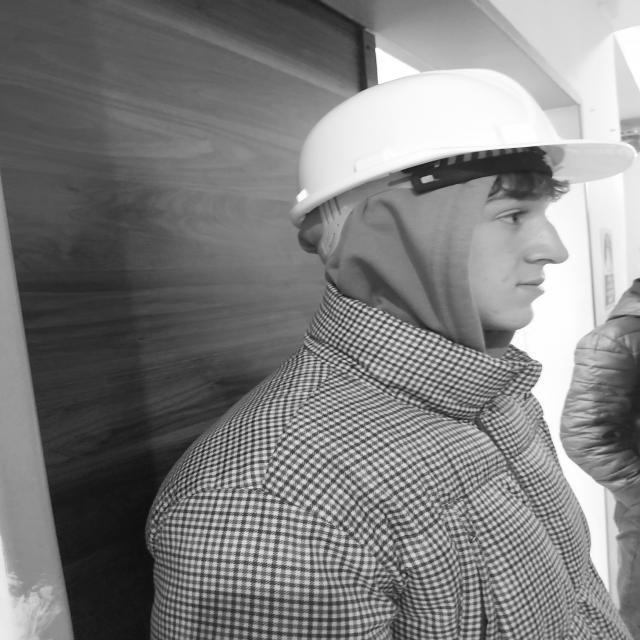safety_helmet: (290, 69, 636, 259)
